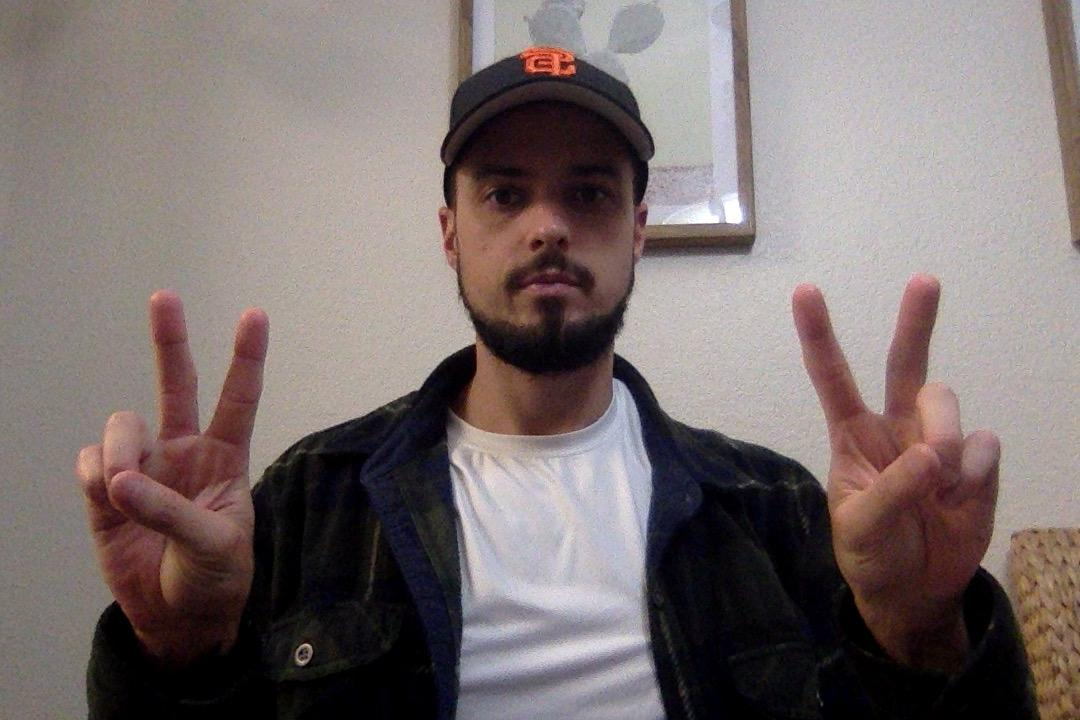Peace: (787, 267, 1010, 655), (75, 282, 275, 666)
